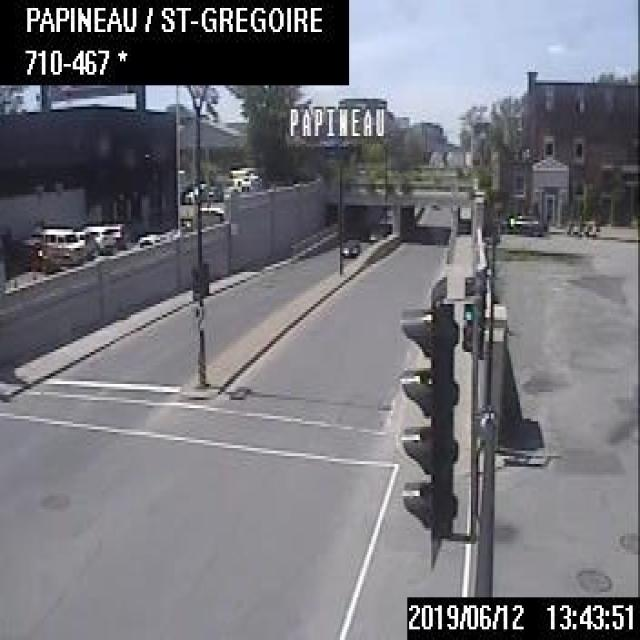vehicle: (39, 227, 85, 264), (503, 208, 550, 234), (84, 220, 116, 254), (342, 237, 358, 256)
